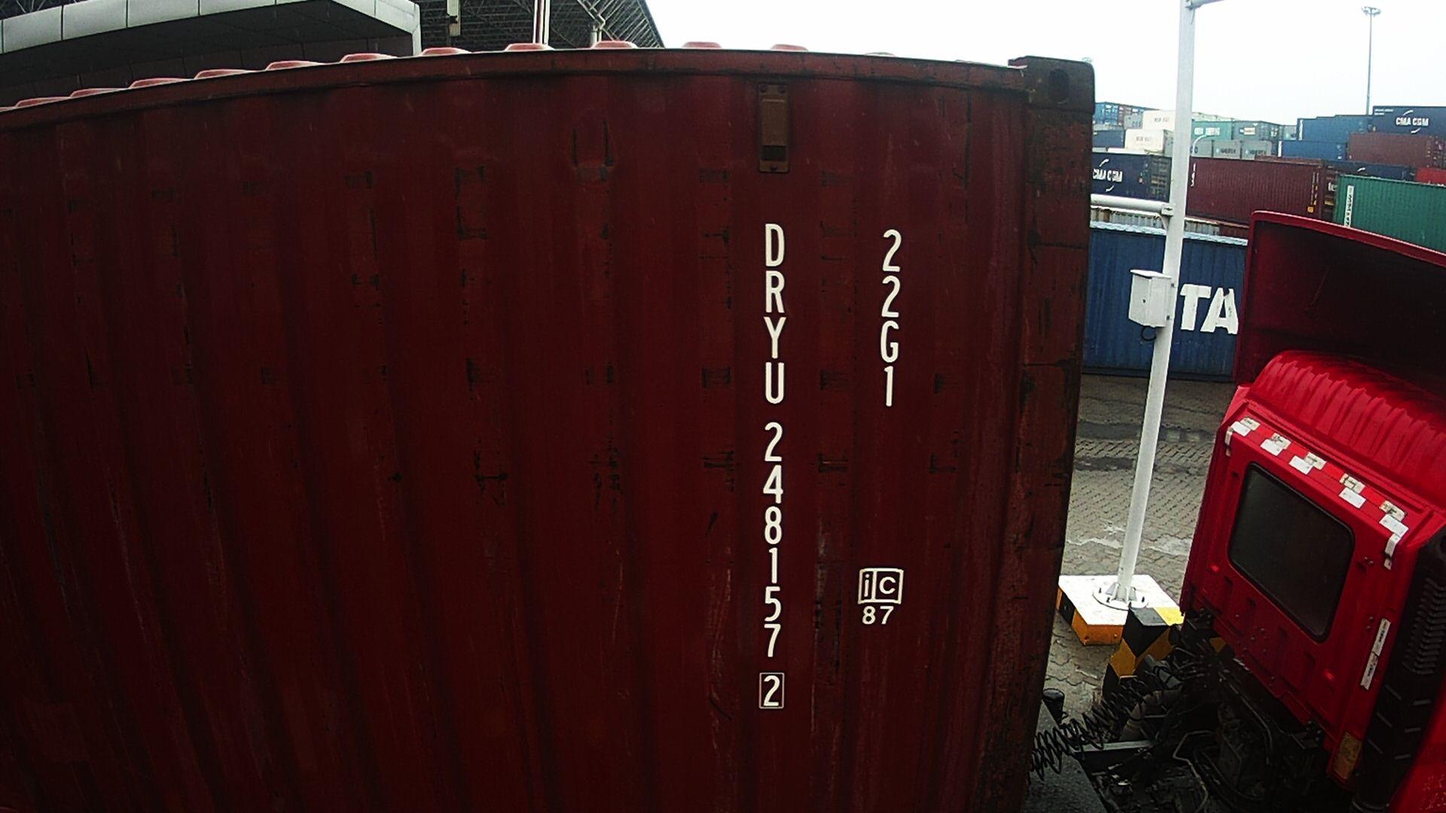container-numbers: (746, 217, 795, 715), (872, 224, 910, 413)
